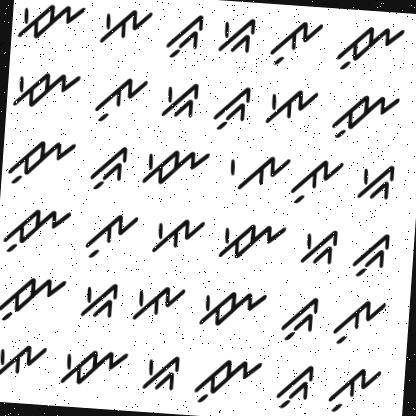e: (220, 144, 291, 199), (94, 0, 157, 58), (127, 276, 188, 330), (261, 80, 319, 134), (147, 209, 209, 258), (0, 335, 49, 388)
ngge: (134, 345, 188, 399), (73, 273, 122, 324), (216, 7, 258, 61), (352, 157, 396, 208), (157, 76, 201, 124), (297, 223, 342, 269)
nggu: (206, 77, 254, 136), (162, 5, 206, 66), (271, 362, 318, 416), (349, 230, 396, 283), (278, 293, 324, 347), (87, 142, 130, 197)
nje: (132, 138, 216, 193), (10, 58, 82, 118), (211, 213, 290, 266), (194, 284, 272, 334), (14, 0, 90, 51), (56, 342, 130, 394)
nju: (326, 86, 404, 150), (6, 129, 81, 194), (336, 20, 407, 84), (189, 350, 264, 410), (0, 270, 69, 331), (0, 204, 72, 261)
u: (92, 68, 152, 131), (329, 291, 391, 350), (266, 14, 327, 73), (323, 358, 385, 416), (80, 209, 142, 262), (290, 152, 346, 210)
